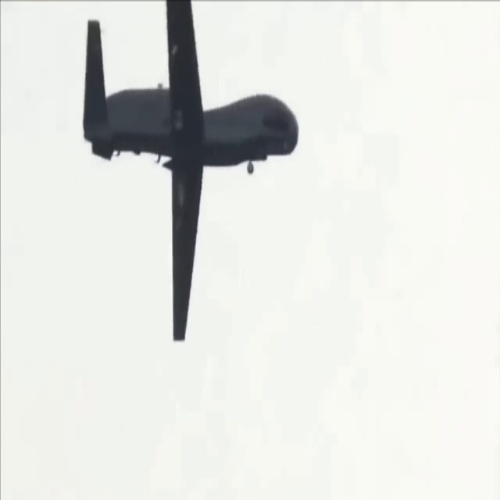uav897: (80, 1, 304, 346)
